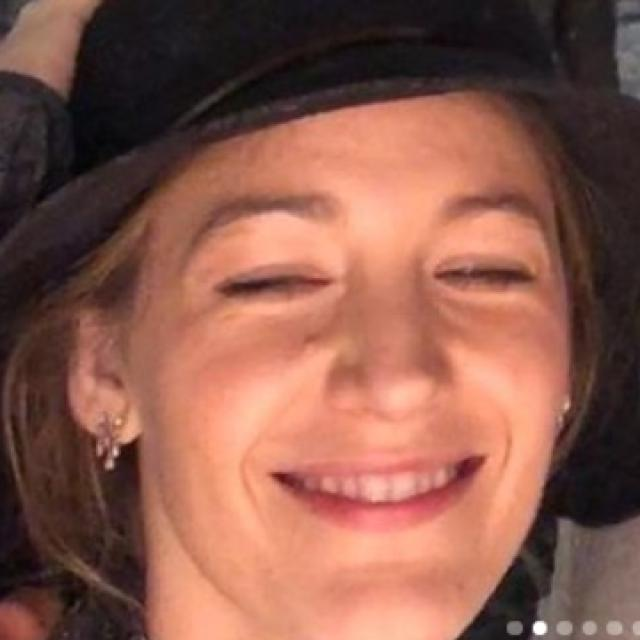close: (171, 187, 363, 325), (414, 184, 570, 316)
